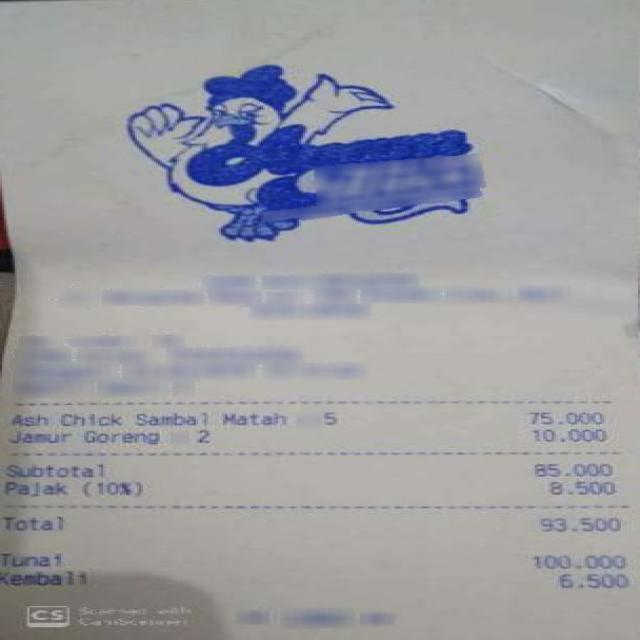text: (2, 462, 103, 477), (0, 568, 84, 586), (531, 553, 621, 566), (0, 480, 66, 497), (82, 429, 156, 444), (534, 516, 614, 529), (531, 427, 602, 441), (554, 573, 625, 587), (532, 462, 608, 475), (526, 411, 600, 424), (545, 480, 613, 494), (0, 515, 63, 530), (0, 552, 63, 567), (133, 410, 200, 424), (7, 429, 68, 443), (76, 479, 137, 493), (57, 413, 118, 425), (219, 412, 282, 422), (6, 412, 46, 425), (320, 410, 333, 424), (194, 429, 204, 440)
